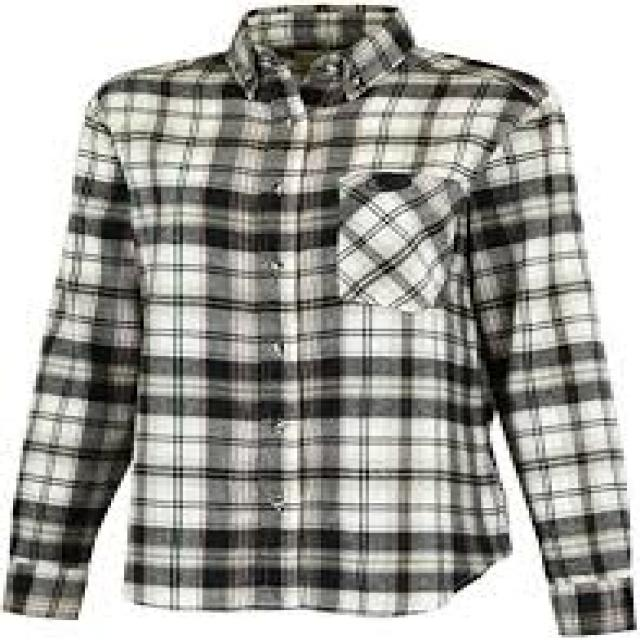plaid: (0, 6, 639, 637)
